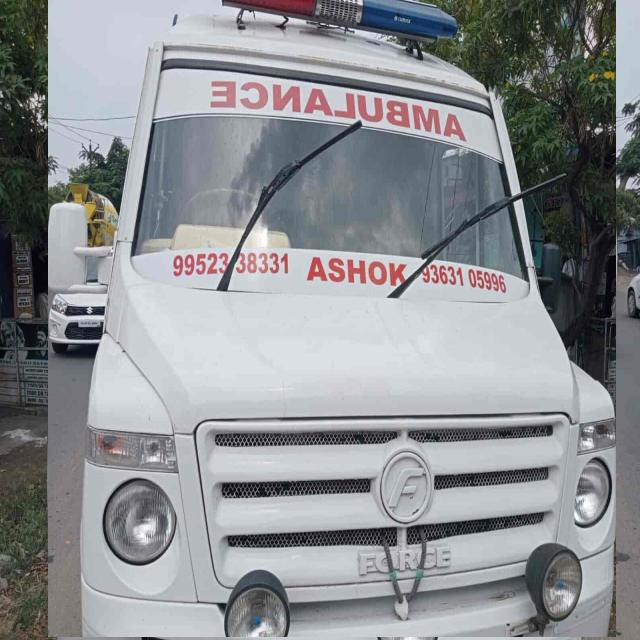emergency: (48, 0, 616, 637)
